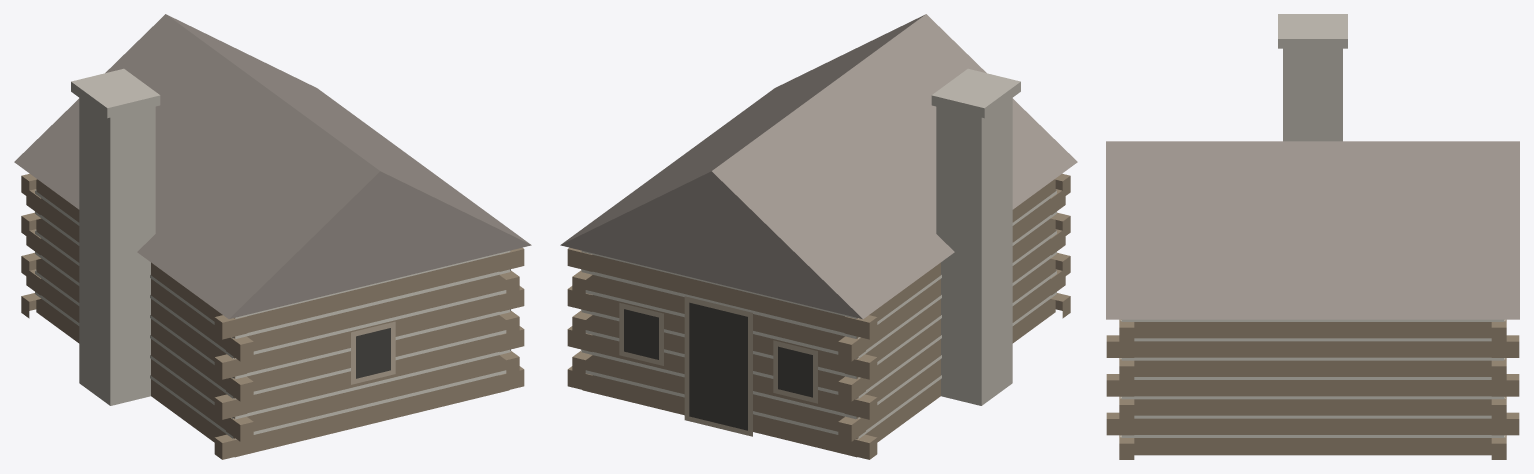
File: inf_boatman_cabin_north__inferred_1835.glb
3 views of the same model, side by side, from view 1: azimuth 30°, elevation 25°; view 2: azimuth 150°, elevation 25°; view 3: azimuth 270°, elevation 25° (orthographic). The views are drawn at different scales.
Visible parts, largest first — view 1: inf_boatman_cabin_north__inferred_1835; view 2: inf_boatman_cabin_north__inferred_1835; view 3: inf_boatman_cabin_north__inferred_1835.
Boxes of the visible parts, x1=… form: inf_boatman_cabin_north__inferred_1835: x1=14, y1=14, x2=531, y2=459; inf_boatman_cabin_north__inferred_1835: x1=560, y1=14, x2=1077, y2=459; inf_boatman_cabin_north__inferred_1835: x1=1106, y1=14, x2=1519, y2=459.
Bounding box in the file's own units: 5.95 × 5.17 × 6.6.
